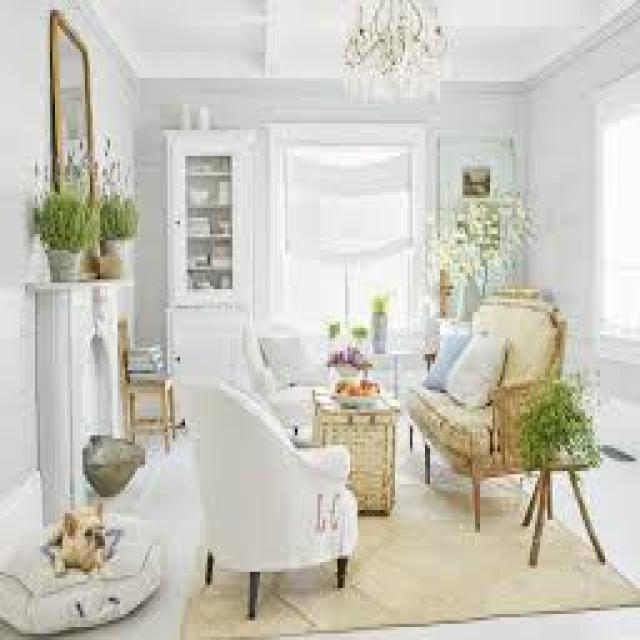Chair: (185, 364, 358, 597), (422, 293, 572, 550), (236, 317, 341, 423)
Lamp: (334, 10, 450, 107)
Table: (521, 440, 604, 563), (319, 385, 399, 506)
